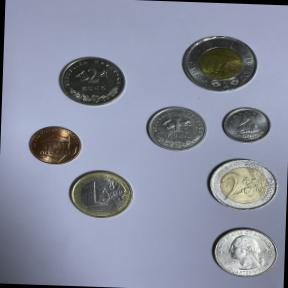1 Euro: (63, 166, 137, 223)
2 Euro: (202, 152, 283, 215)
Canda-10cent-: (216, 102, 274, 146)
Canda-2Dollar-: (176, 29, 261, 96)
Croatia-2Kune-: (52, 52, 130, 112)
US-1cent-: (23, 121, 85, 169)
US-25cent-: (206, 222, 282, 280)
